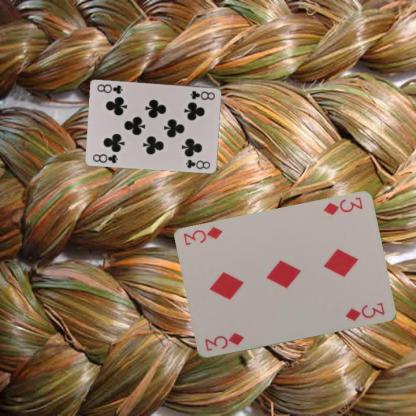3d: (320, 194, 364, 216), (202, 330, 245, 352)
8c: (90, 151, 120, 164), (188, 88, 216, 101)
